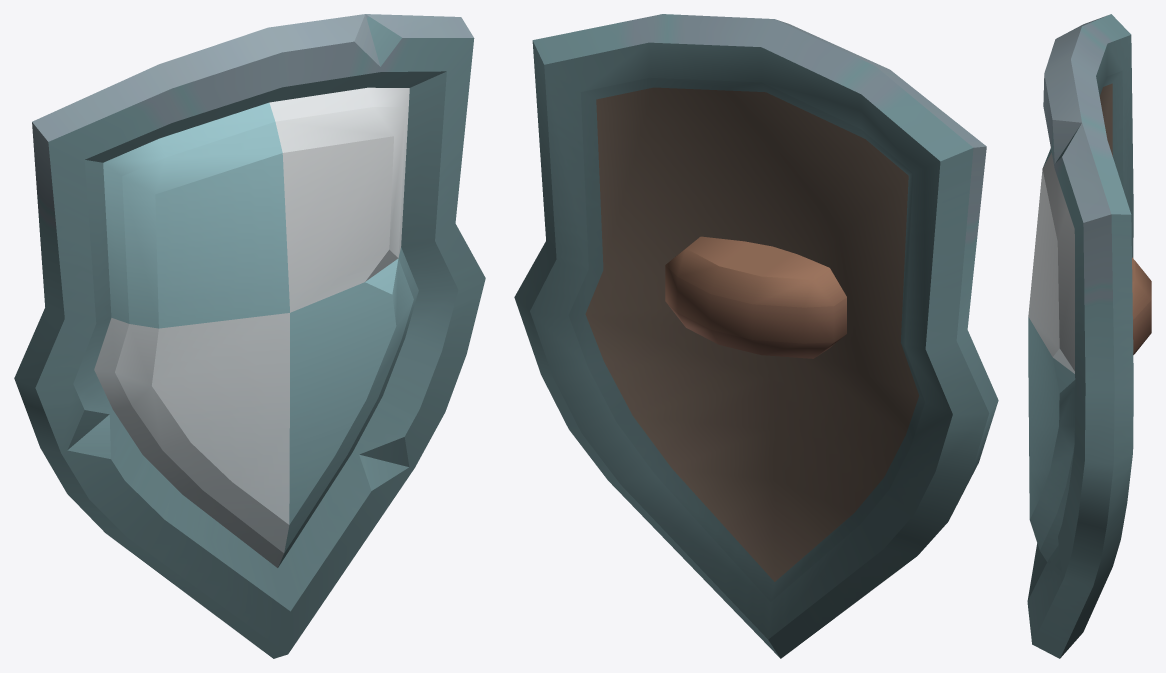
File: shield_B__ESCUDO_CELESTIAL.glb
3 views of the same model, side by side, from view 1: azimuth 30°, elevation 25°; view 2: azimuth 150°, elevation 25°; view 3: azimuth 270°, elevation 25° (orthographic). The views are drawn at different scales.
Parts seen in each view (by area): view 1: shield_B; view 2: shield_B; view 3: shield_B.
Part boxes in pixels (x1,y1,x2,y2): shield_B: (14, 14, 485, 658); shield_B: (514, 14, 998, 658); shield_B: (1027, 14, 1151, 658).
Size of the model in its own units: 1.02 by 1.32 by 0.248.
1 material, 1 textured.
